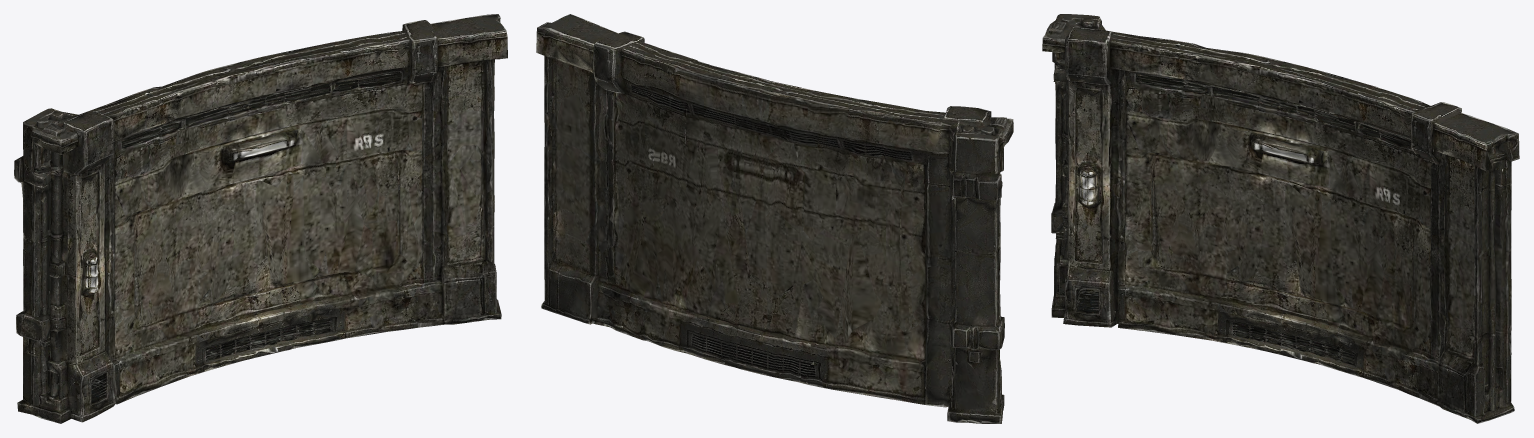
The model's file is chamber_plain_wall.glb.
3 views of the same model, side by side, from view 1: azimuth 30°, elevation 25°; view 2: azimuth 150°, elevation 25°; view 3: azimuth 330°, elevation 25° (orthographic).
Bounding box in the file's own units: 1.9 × 1.12 × 0.2718.
Materials: 1 (1 with a texture image).
